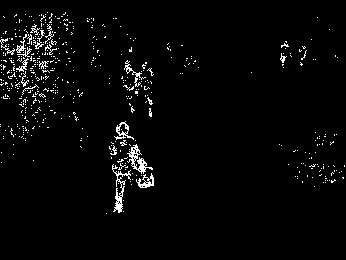person: (104, 119, 150, 216), (141, 61, 161, 119), (122, 61, 140, 112)
